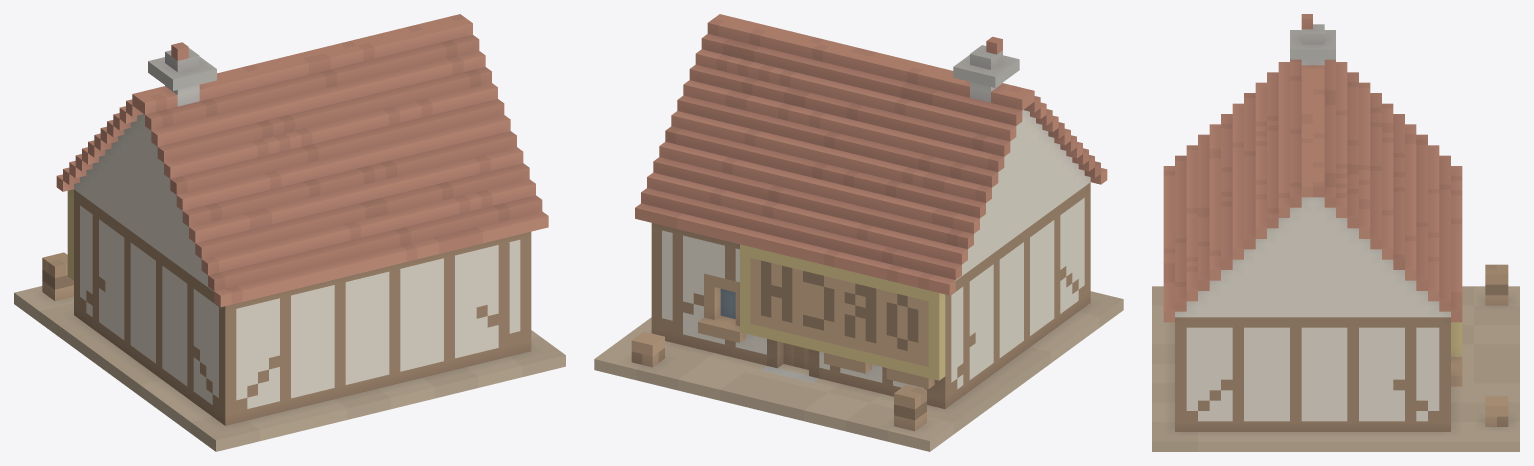
File: orchard.glb
The picture shows the model from 3 angles, left to right: view 1: azimuth 30°, elevation 25°; view 2: azimuth 150°, elevation 25°; view 3: azimuth 270°, elevation 25°; orthographic projection. The views are drawn at different scales.
Parts seen in each view (by area): view 1: orchard; view 2: orchard; view 3: orchard.
Boxes of the visible parts, x1,y1,x2,y2 form: orchard: [14, 14, 565, 451]; orchard: [594, 14, 1123, 451]; orchard: [1152, 14, 1519, 451].
Bounding box in the file's own units: 4 × 3.62 × 4.
